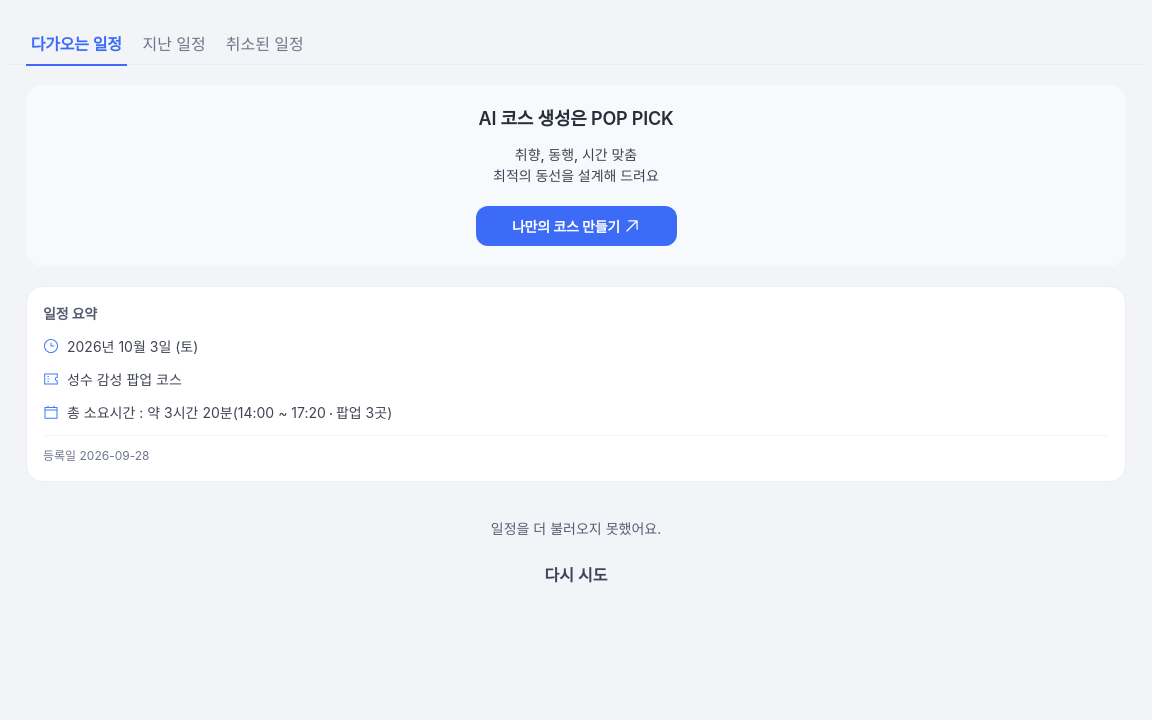
it: 다음 페이지를 불러오지 못하면 받은 일정은 그대로 두고 목록 끝에서 다시 시도한다
This screenshot has width=1152, height=720.
Click the button "다시 시도". click: coordinates (576, 575)
box: 524,551 -> 627,599
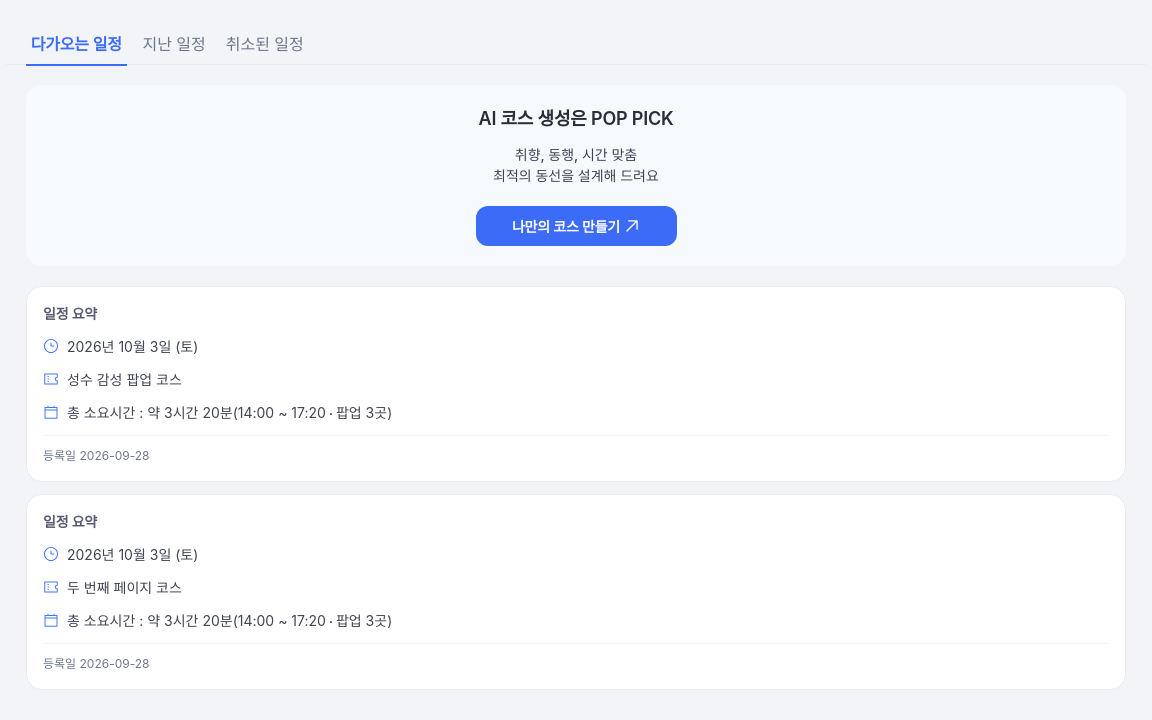
Now the text "두 번째 페이지 코스" is shown, box 67,577 -> 182,598
